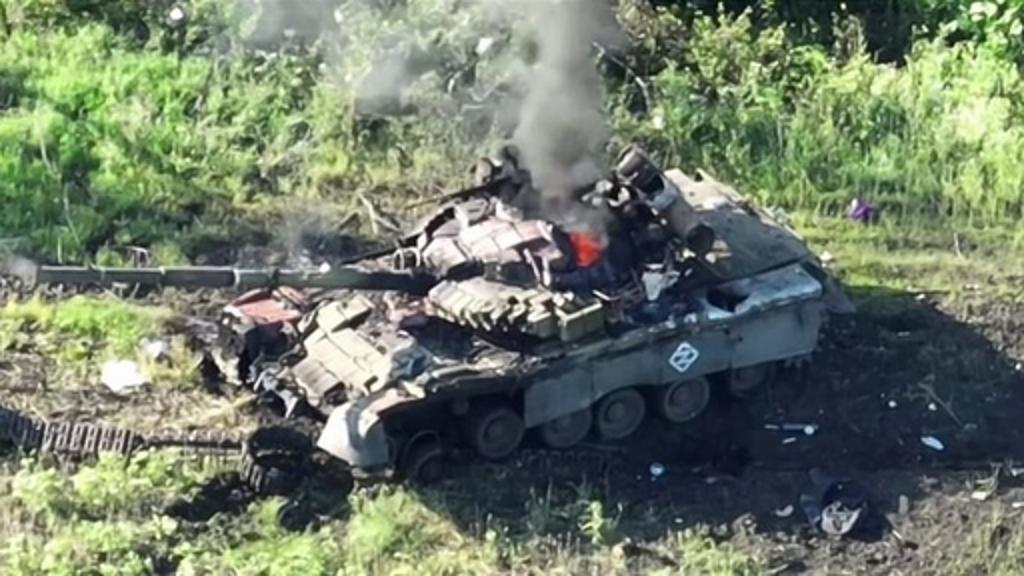TANK: (34, 142, 838, 482)
